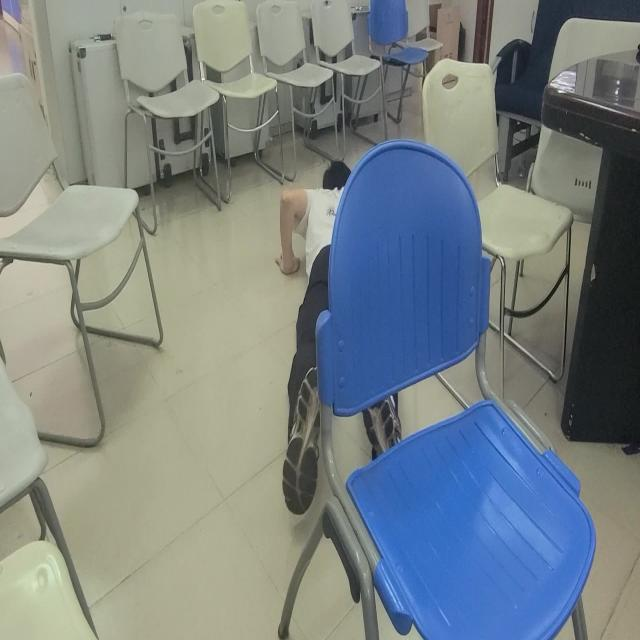Fall-Detected: (274, 159, 402, 513)
